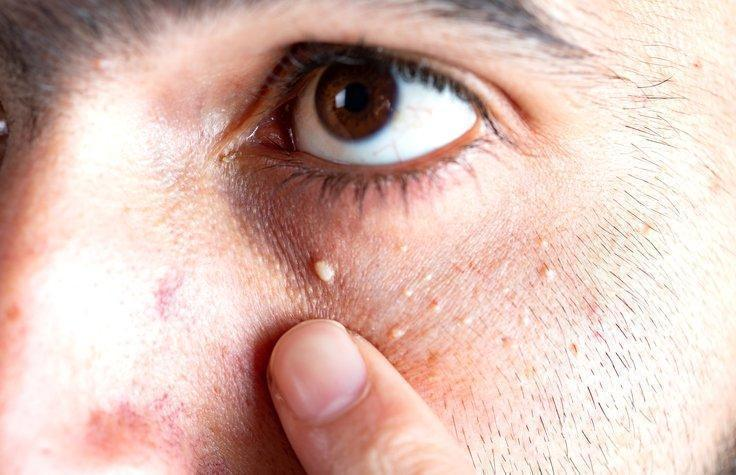flat_wart: (423, 303, 489, 350), (519, 234, 572, 289)
milium: (301, 249, 349, 306), (376, 314, 419, 352), (421, 259, 452, 294), (390, 233, 426, 262)
